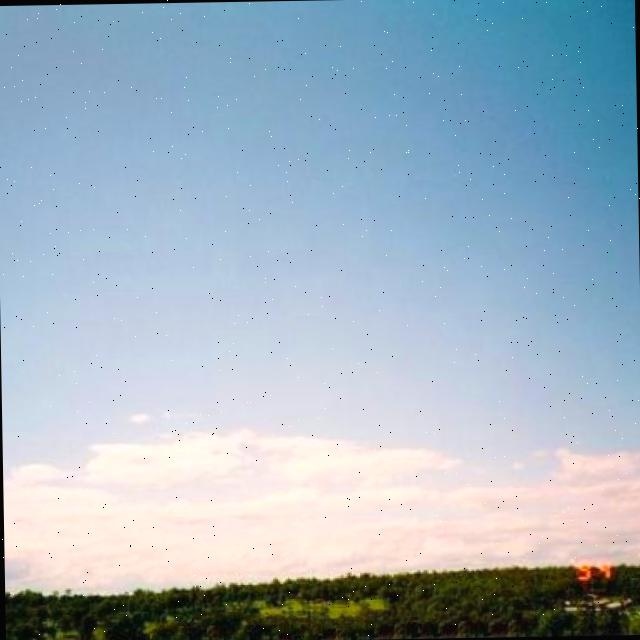Sc: (2, 397, 640, 559)
